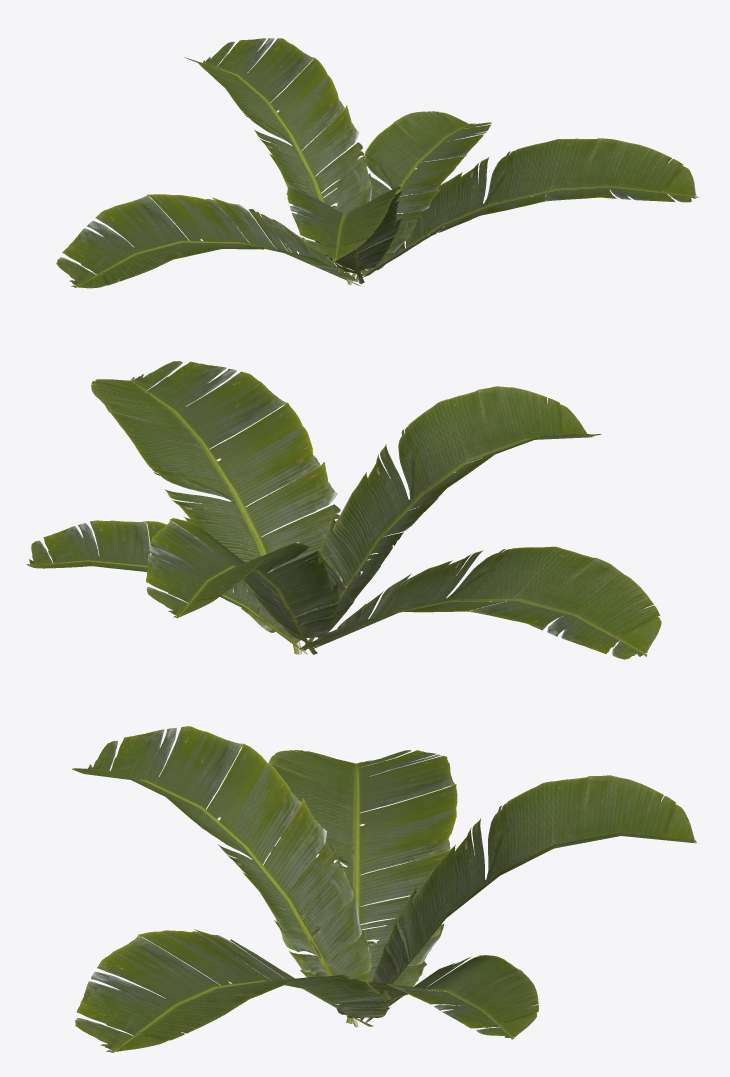
Rendered from SM_Fern_01b.fbx.
3 views of the same model, one above another, from view 1: azimuth 30°, elevation 25°; view 2: azimuth 150°, elevation 25°; view 3: azimuth 270°, elevation 25° (orthographic). The views are drawn at different scales.
Visible parts, largest first — view 1: SM_Fern_01b_LOD0; view 2: SM_Fern_01b_LOD0; view 3: SM_Fern_01b_LOD0.
Boxes of the visible parts, x1,y1,x2,y2 form: SM_Fern_01b_LOD0: (56,38,698,288); SM_Fern_01b_LOD0: (26,361,661,659); SM_Fern_01b_LOD0: (72,726,699,1052).
Bounding box in the file's own units: 338 × 270 × 94.29.
